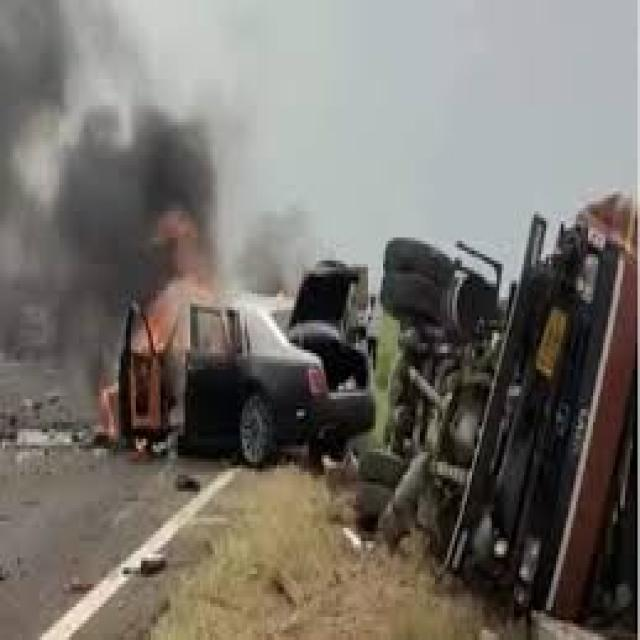Accident: (90, 181, 640, 639)
